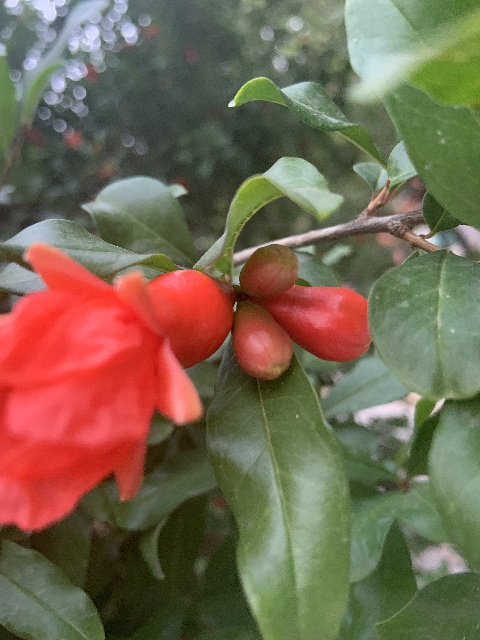bud: (261, 283, 370, 362), (232, 301, 293, 381), (238, 245, 298, 301)
flower: (0, 244, 233, 529)
